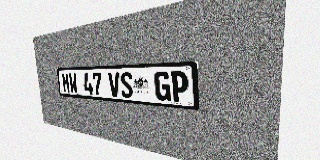4: (83, 73, 93, 95)
7: (91, 72, 103, 96)
G: (154, 71, 171, 101)
M: (61, 73, 70, 93)
P: (170, 71, 189, 103)
S: (120, 72, 133, 98)
V: (108, 72, 121, 97)
W: (69, 73, 78, 94)
